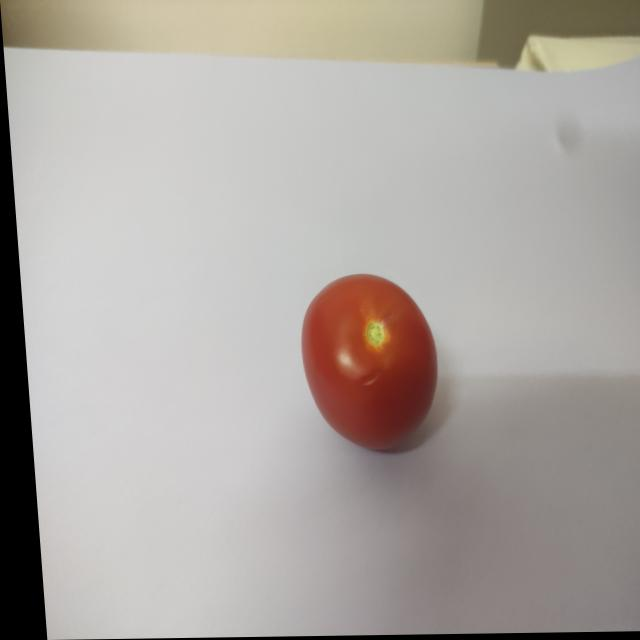kirmizi: (279, 262, 449, 458)
